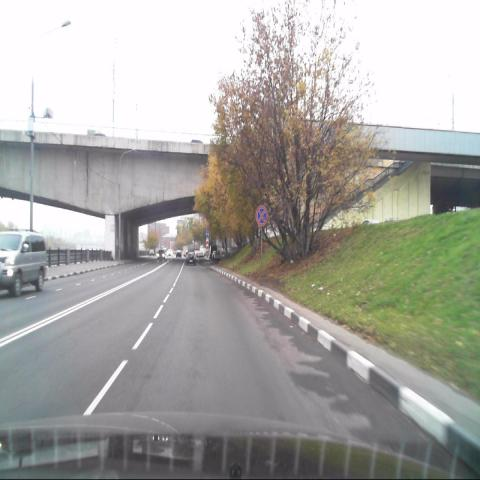3_27: (256, 204, 268, 225)
